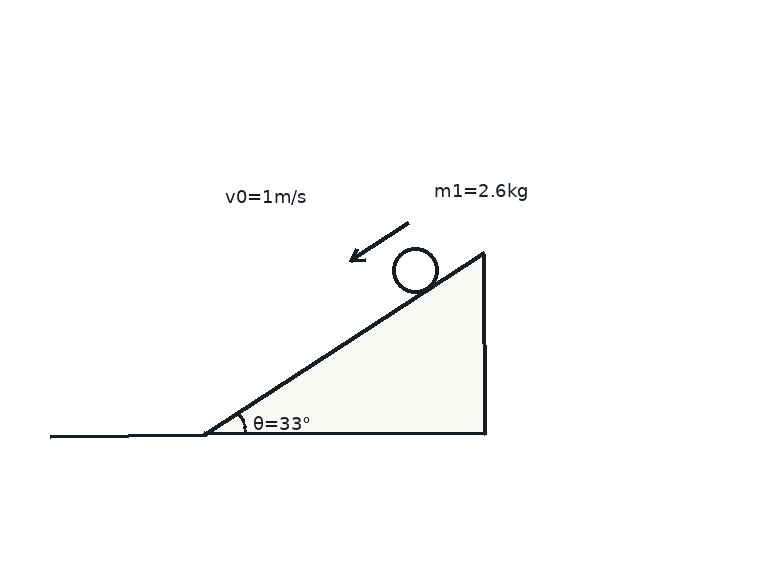ball: (390, 245, 440, 295)
ramp: (203, 252, 485, 436)
